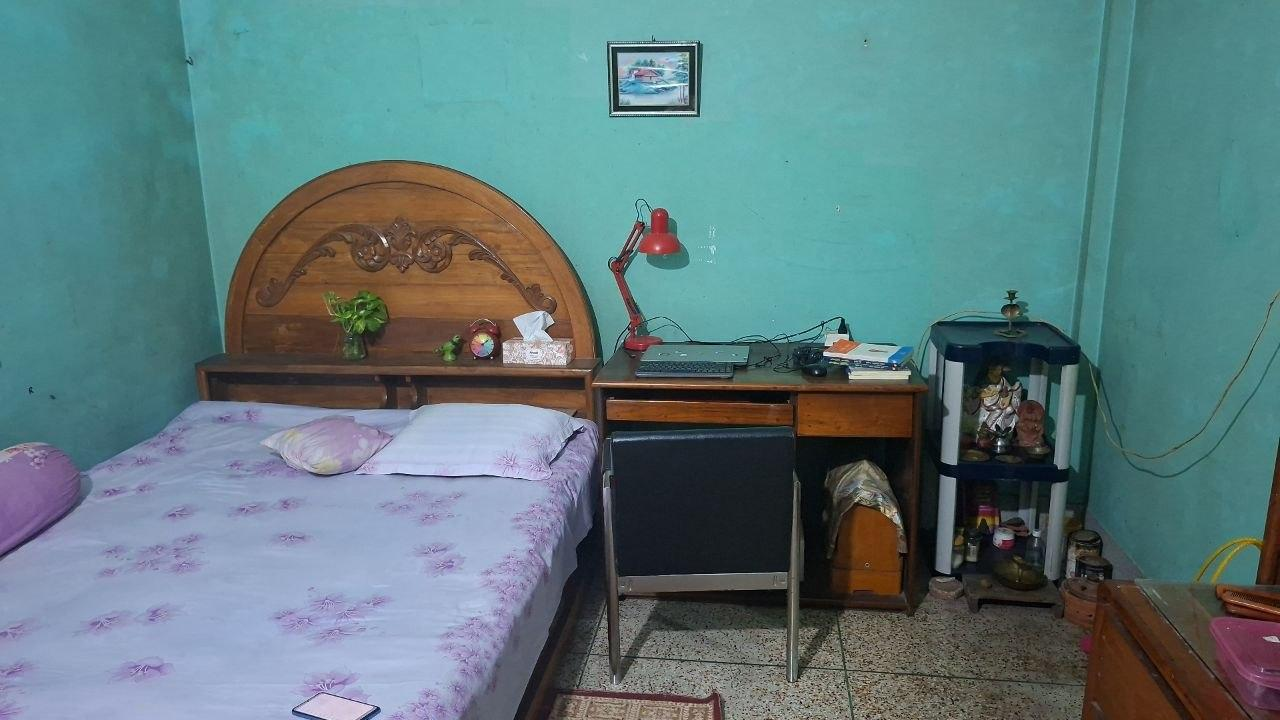Book: (837, 339, 917, 383)
Box: (496, 329, 584, 370)
Chair: (548, 373, 836, 699)
Clock: (460, 318, 507, 364)
Keyboard: (659, 360, 783, 385)
Laptop: (659, 333, 777, 375)
Mouse: (791, 354, 839, 389)
Phone: (280, 682, 392, 720)
Photo: (607, 44, 699, 121)
Pillow: (383, 402, 580, 477), (234, 404, 393, 486), (0, 437, 94, 573)
Plant: (322, 293, 387, 366)
Table Lamp: (603, 188, 687, 370)
